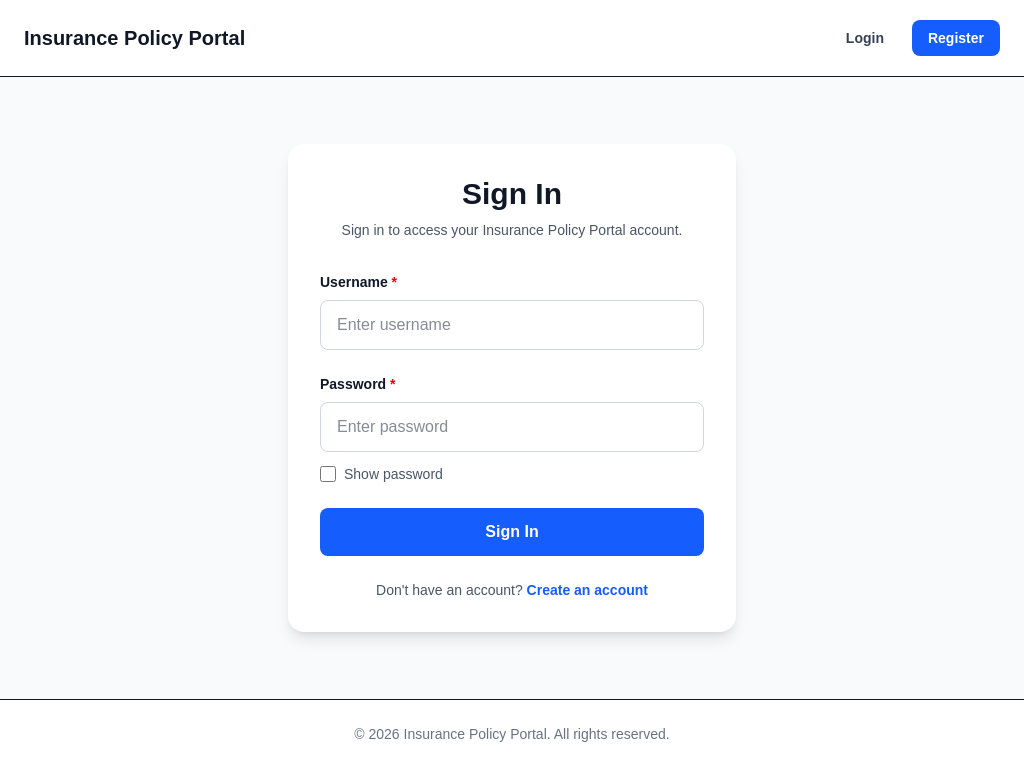
Test: LoginPage › should display the API error when login fails
Type "wronguser" into the field with placeholder "Enter username" at (512, 325), box [320,300,704,350]
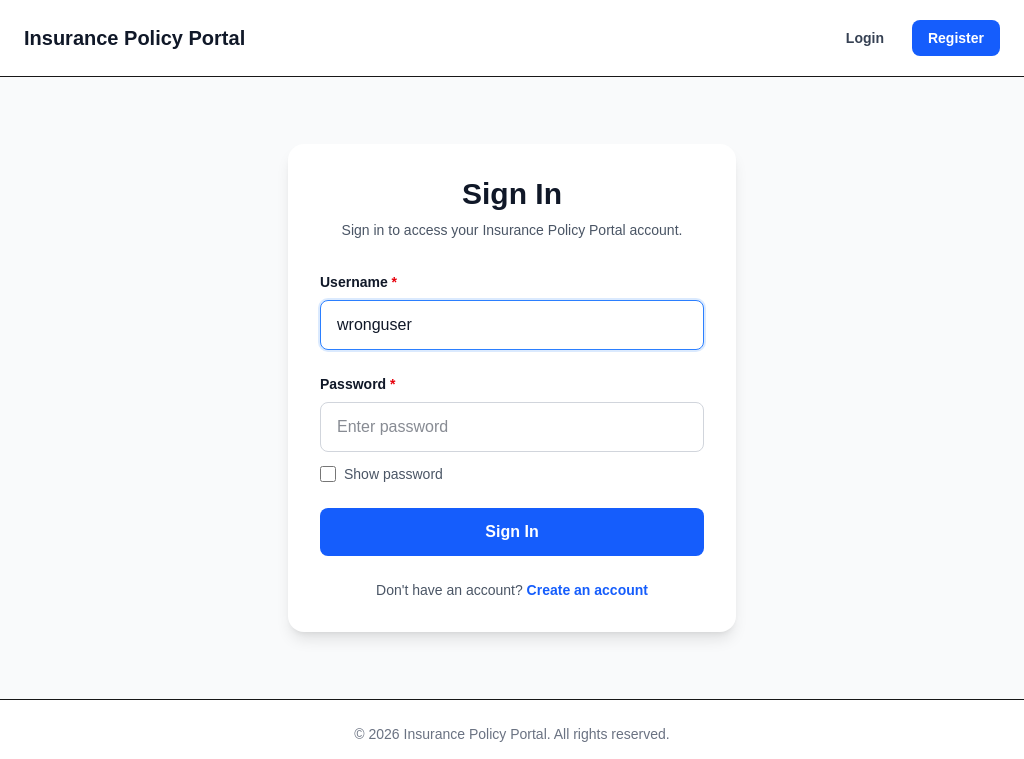
Type "WrongPassword123!" into the password field with placeholder "Enter password" at (512, 427), box [320,402,704,452]
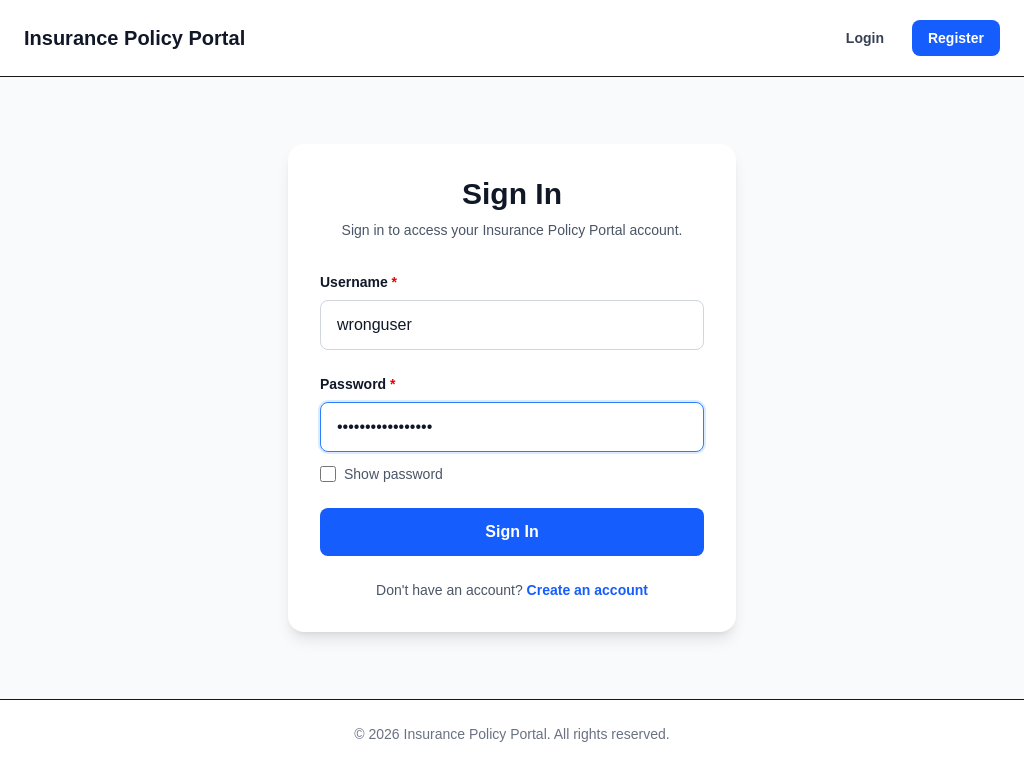
Click the button "Sign In" at (512, 532), box [320,508,704,556]
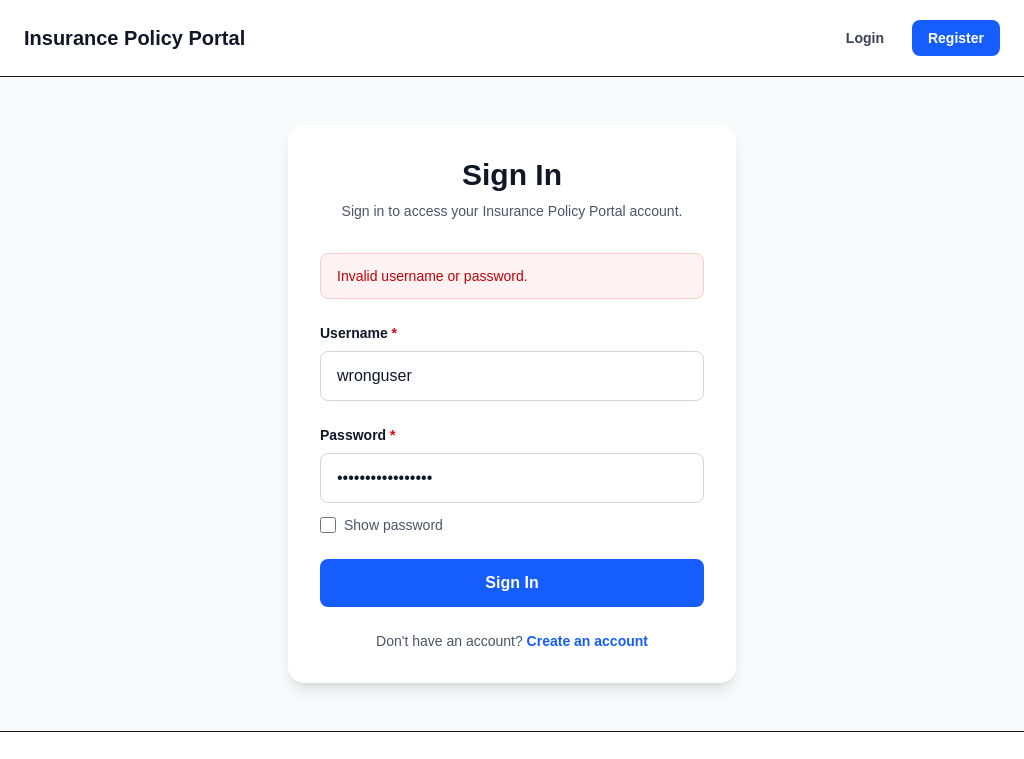
Expected: the button "Sign In" is shown, [320,559,704,607]
Expected: the text "Invalid username or password." is shown, [320,253,704,299]
